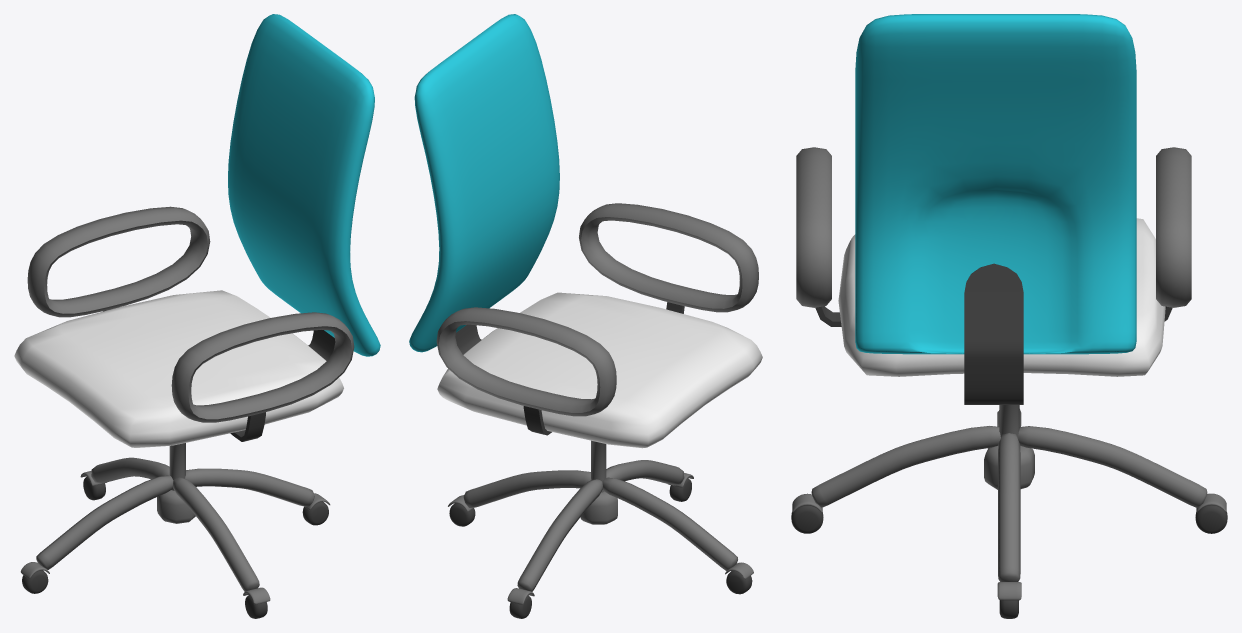
The model's file is Office Chair02.fbx.
3 views of the same model, side by side, from view 1: azimuth 30°, elevation 25°; view 2: azimuth 150°, elevation 25°; view 3: azimuth 270°, elevation 25° (orthographic). The views are drawn at different scales.
Parts seen in each view (by area): view 1: Office Chair02; view 2: Office Chair02; view 3: Office Chair02.
Boxes of the visible parts, left/top/right/bottom form: Office Chair02: left=14, top=14, right=380, bottom=618; Office Chair02: left=409, top=14, right=762, bottom=618; Office Chair02: left=791, top=14, right=1227, bottom=618.
Size of the model in its own units: 0.453 by 0.453 by 0.69.
